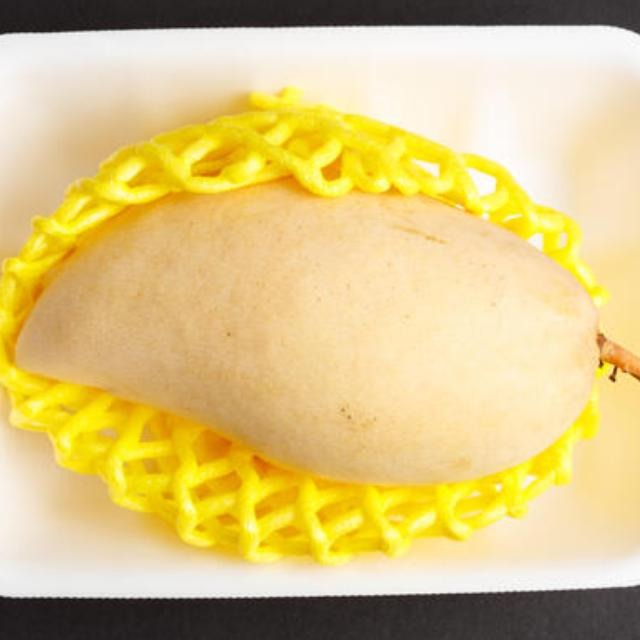mango: (12, 182, 598, 478)
